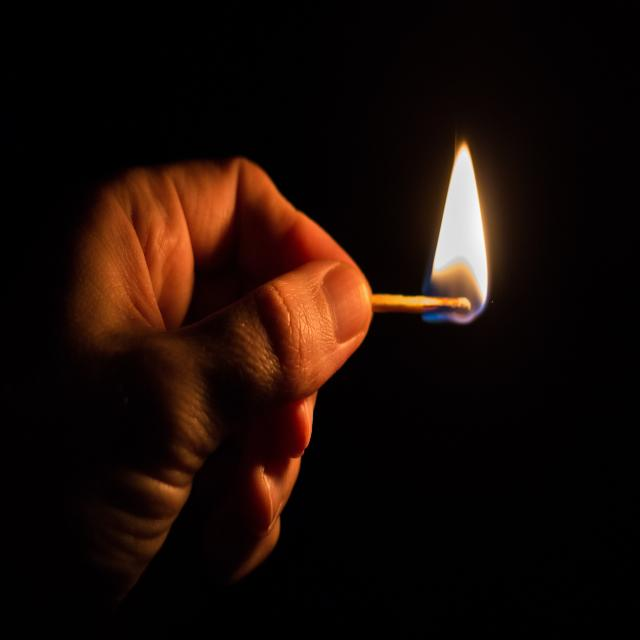fire: (425, 102, 496, 339)
